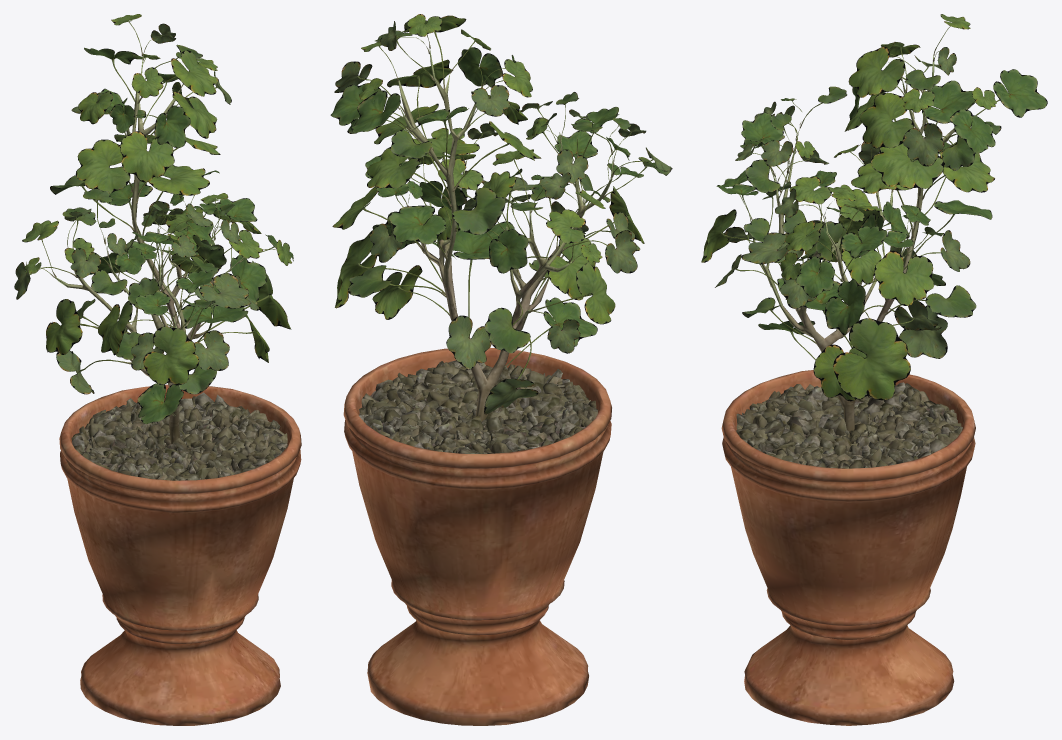
Rendered from ph_potted_plant_01.glb.
3 views of the same model, side by side, from view 1: azimuth 30°, elevation 25°; view 2: azimuth 150°, elevation 25°; view 3: azimuth 270°, elevation 25° (orthographic). The views are drawn at different scales.
Parts seen in each view (by area): view 1: potted_plant_01_stem, potted_plant_01_leaves; view 2: potted_plant_01_stem, potted_plant_01_leaves; view 3: potted_plant_01_stem, potted_plant_01_leaves.
Part boxes in pixels (x1=…): potted_plant_01_stem: x1=54, y1=54, x2=301, y2=725; potted_plant_01_leaves: x1=14, y1=14, x2=293, y2=423; potted_plant_01_stem: x1=343, y1=49, x2=613, y2=725; potted_plant_01_leaves: x1=330, y1=14, x2=672, y2=414; potted_plant_01_stem: x1=721, y1=55, x2=975, y2=725; potted_plant_01_leaves: x1=701, y1=14, x2=1047, y2=401.
Bounding box in the file's own units: 0.5874 × 1.34 × 0.6336.
Materials: 2 (2 with a texture image).
